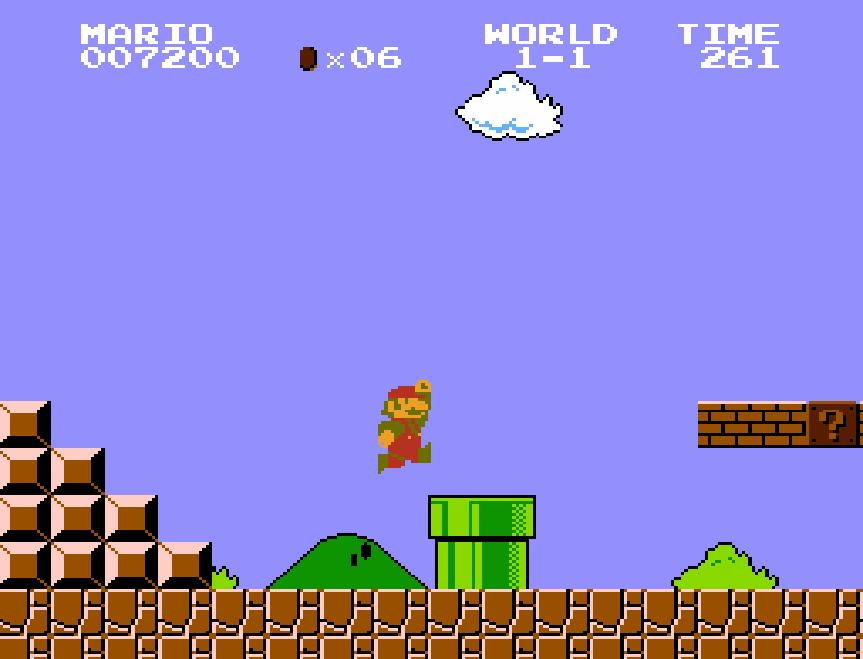big_mario: (376, 378, 434, 476)
